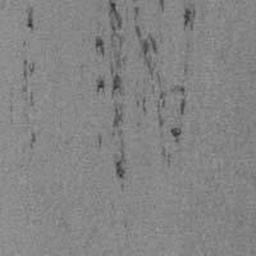Inclusion: (95, 0, 186, 189), (23, 60, 35, 106), (183, 3, 196, 31), (26, 8, 34, 30), (30, 133, 36, 147), (159, 0, 164, 12)
